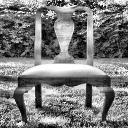chair_success: (8, 4, 118, 126)
